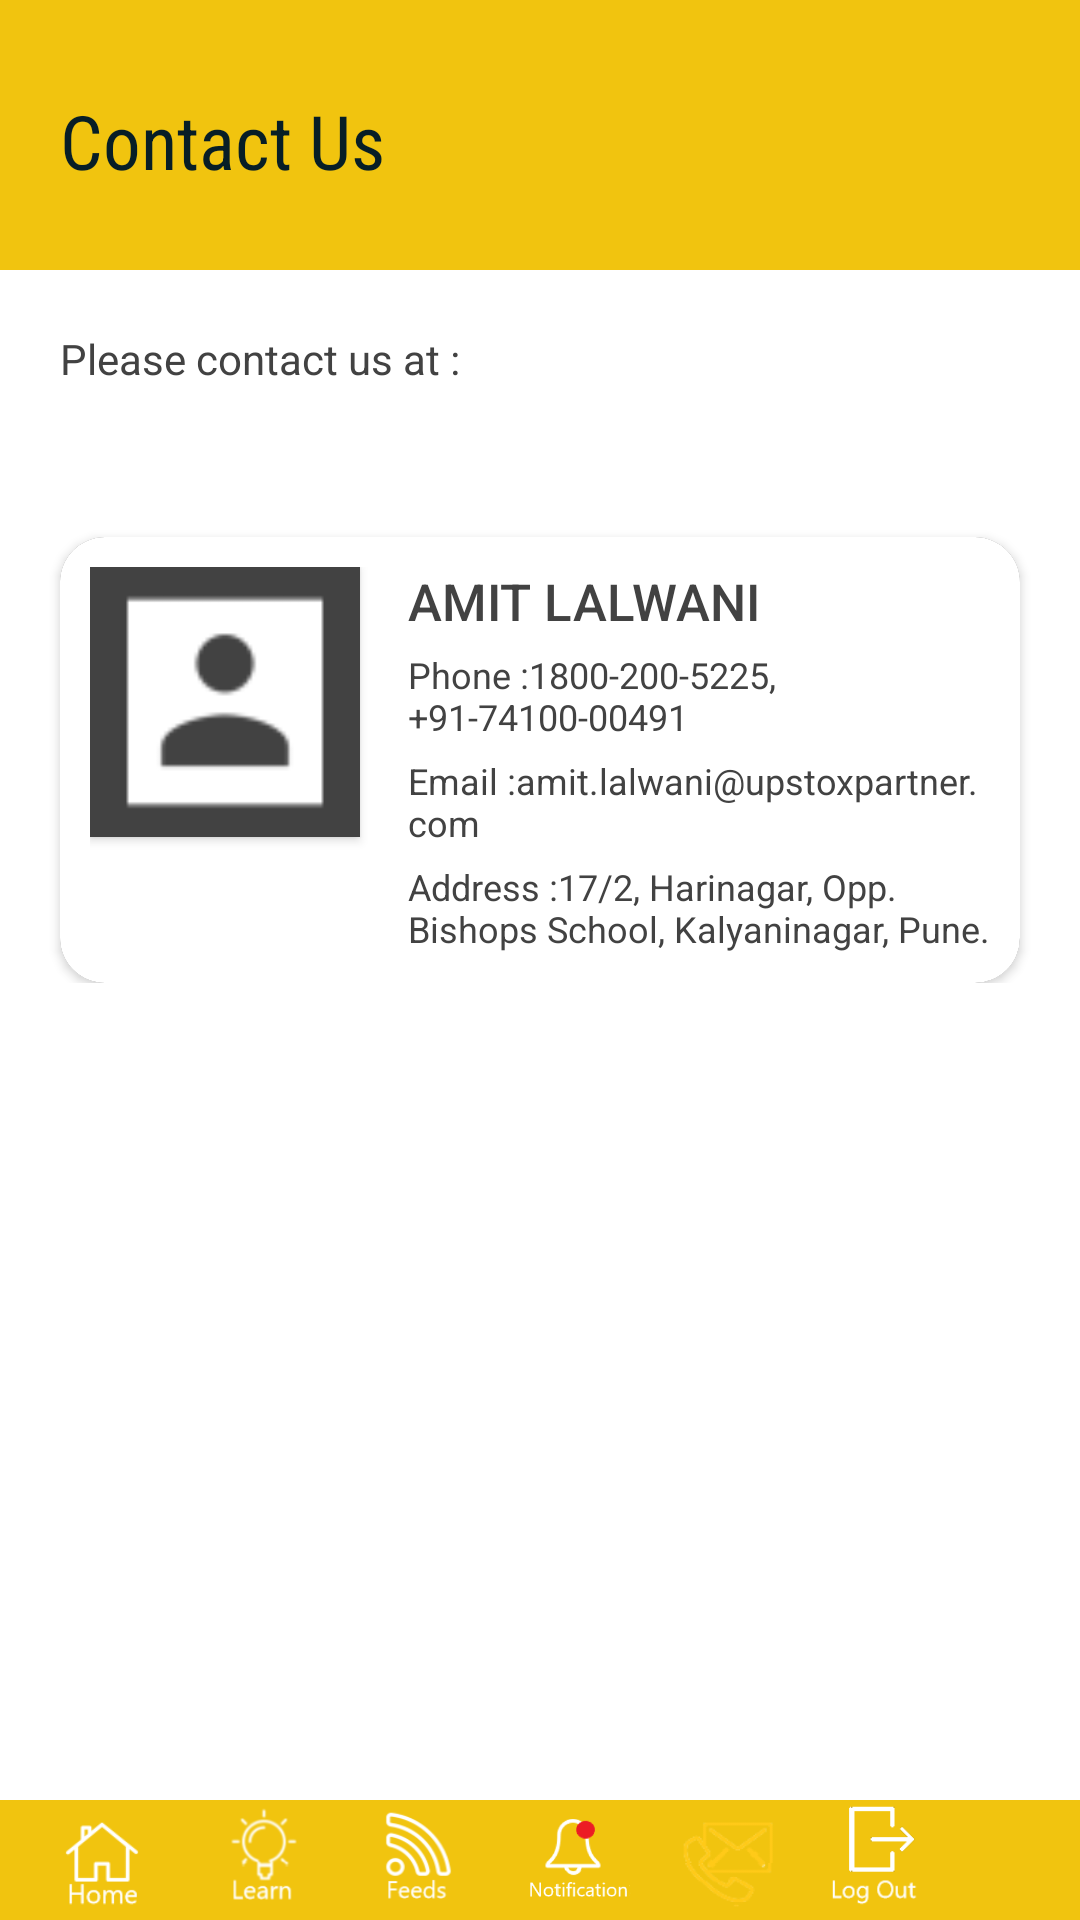

Screen size 1080 x 1920. Icon name, then its box in pixels as [x1,y1,x2,y2]:
contact: [684,1828,766,1902]
